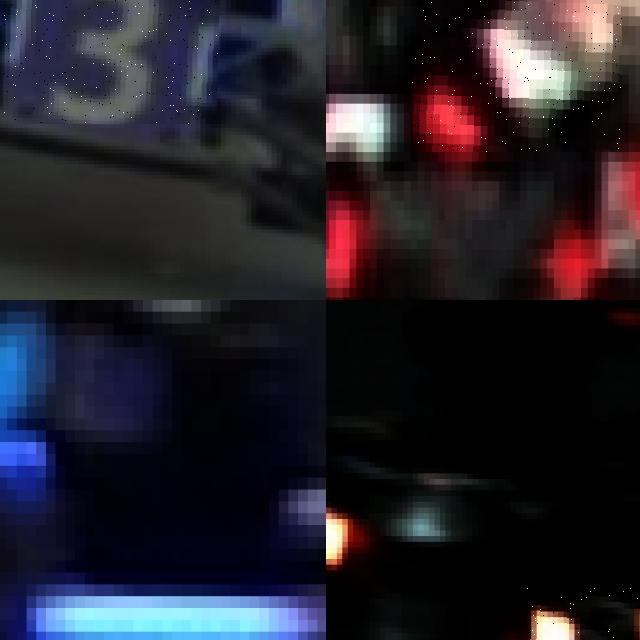B3: (2, 0, 220, 124)
R4: (411, 0, 622, 152), (540, 152, 640, 300), (326, 142, 363, 287)
Rs: (526, 587, 640, 640)
